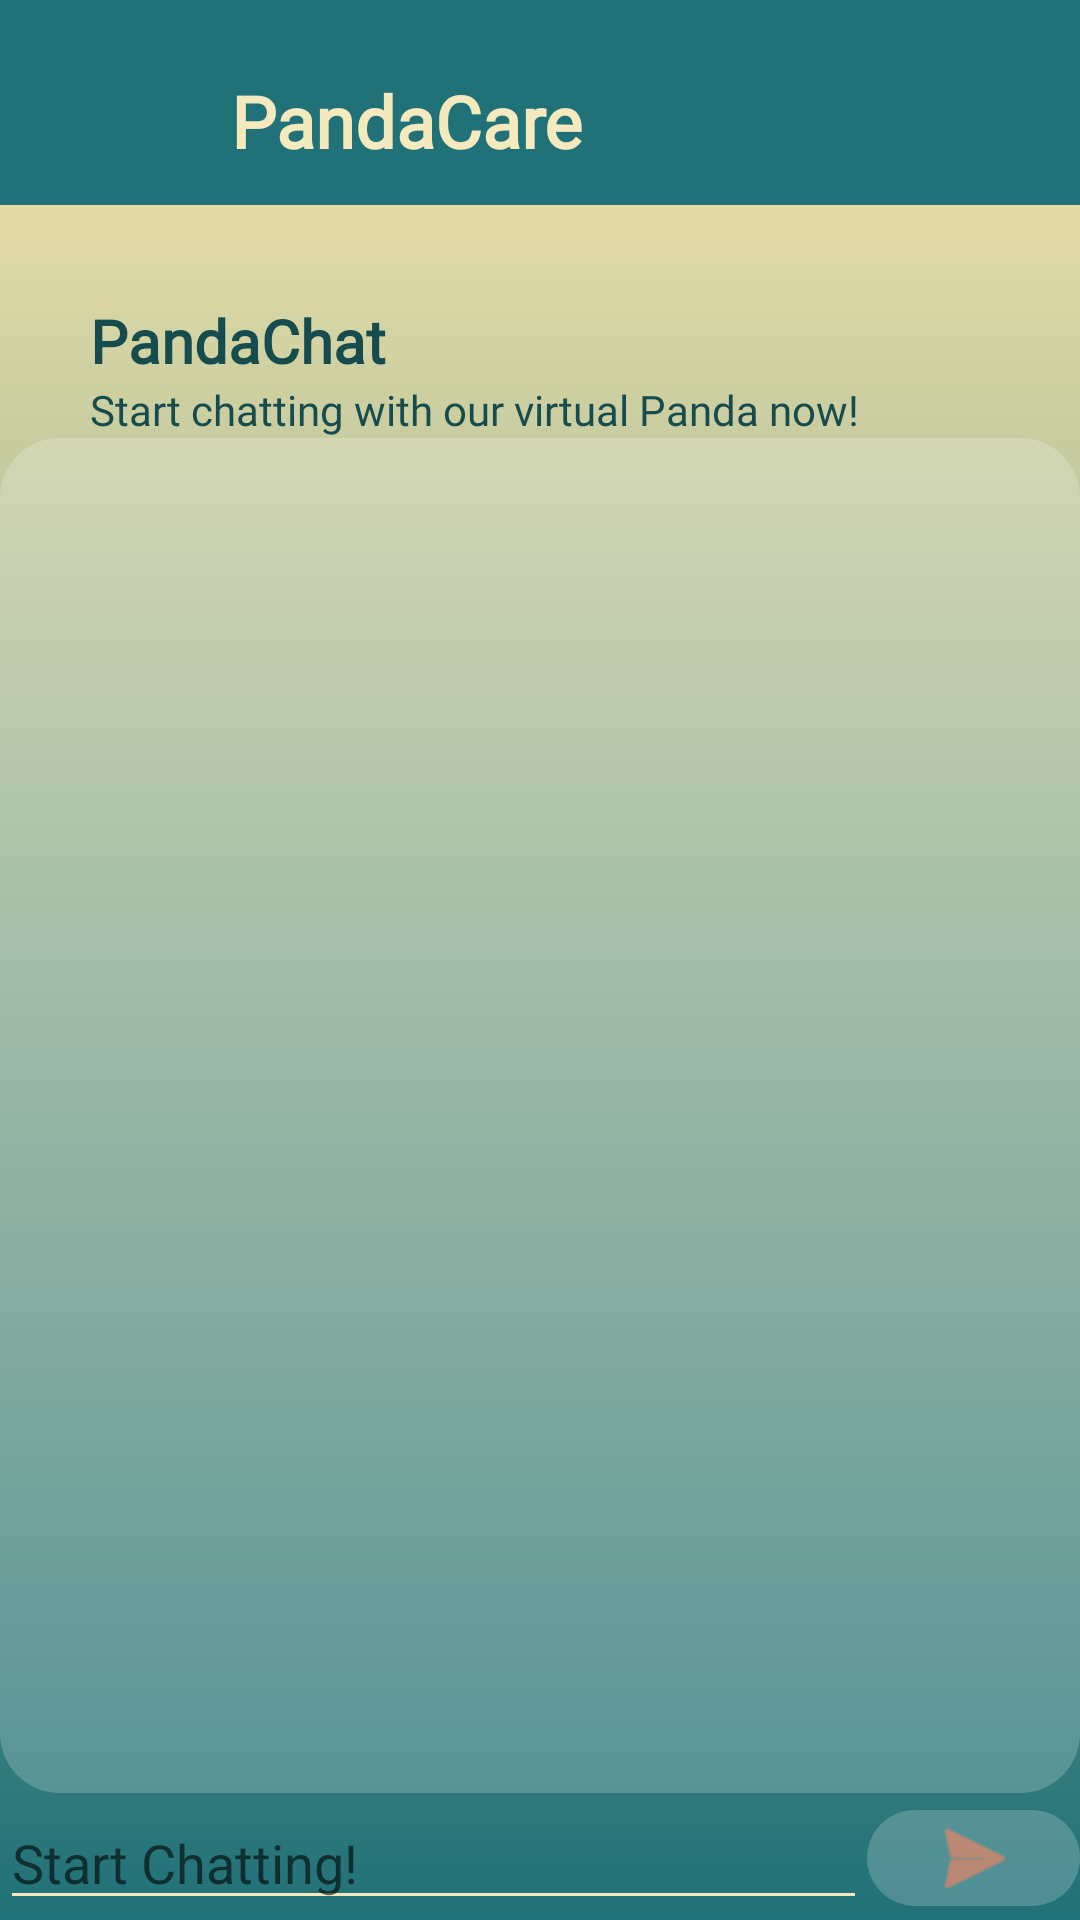

Icon click points for this 1080px×1920px phone screenshot, format [x,y]:
send: [973,1858]
